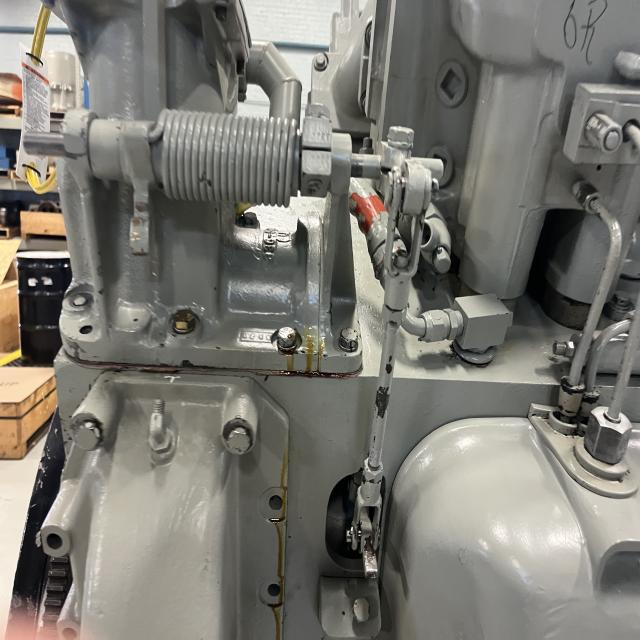Oil Leak: (257, 448, 288, 640), (295, 345, 318, 374), (286, 364, 292, 371)
